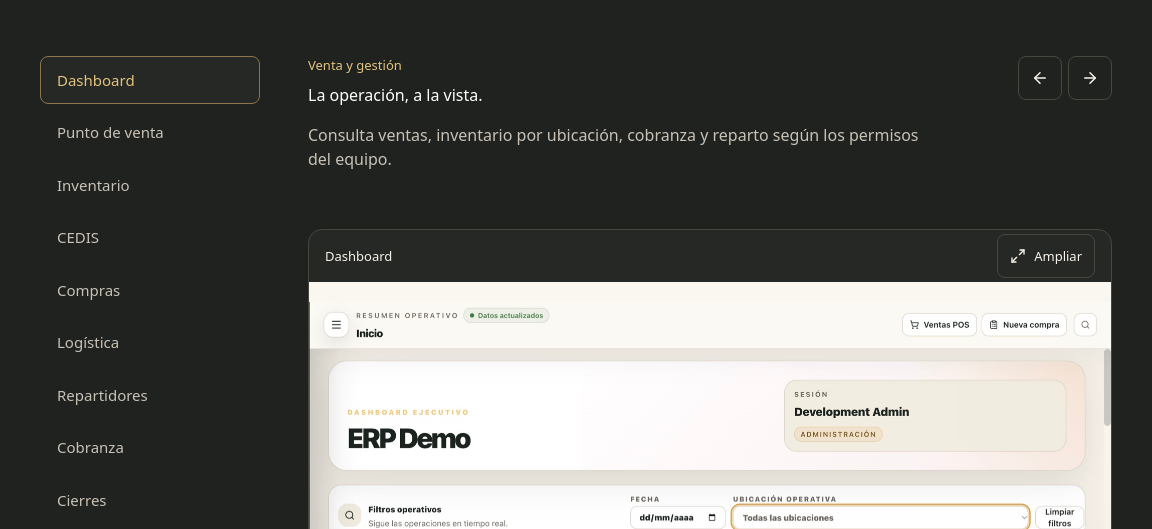
Test: Visible Operations P0 › describes the route planner and billing form without overstating their evidence
What coordinates should you click on to do the following:
click the tab with id "module-tab-fleet"
I would click on:
 (150, 343)
Its box is [40, 318, 260, 367].
(page scrolled)
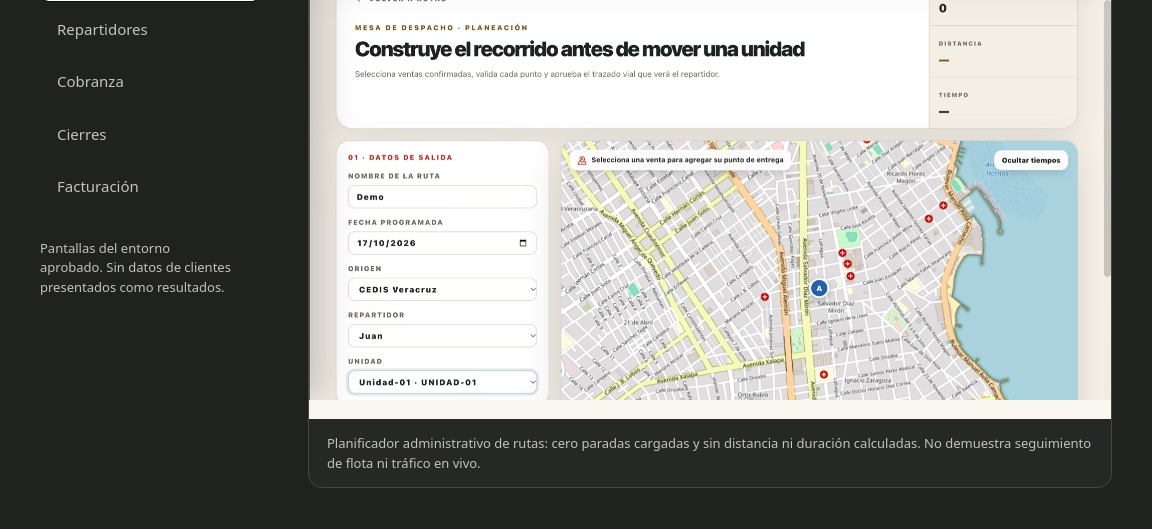
Result: the text "cero paradas cargadas" is shown at [327, 434, 1091, 472]
What coordinates should you click on to do the following:
click the tab with id "module-tab-billing"
I would click on:
 (150, 187)
Its box is [40, 162, 260, 211].
(page scrolled)
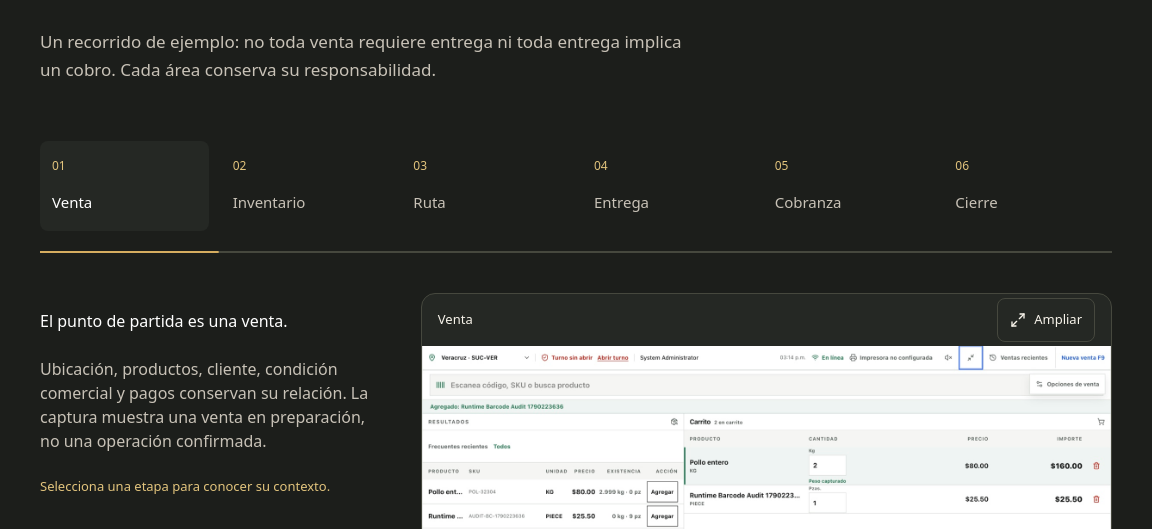
What coordinates should you click on to do the following:
click the button "03 Ruta"
I would click on:
 (486, 186)
Its box is [401, 141, 570, 231].
(page scrolled)
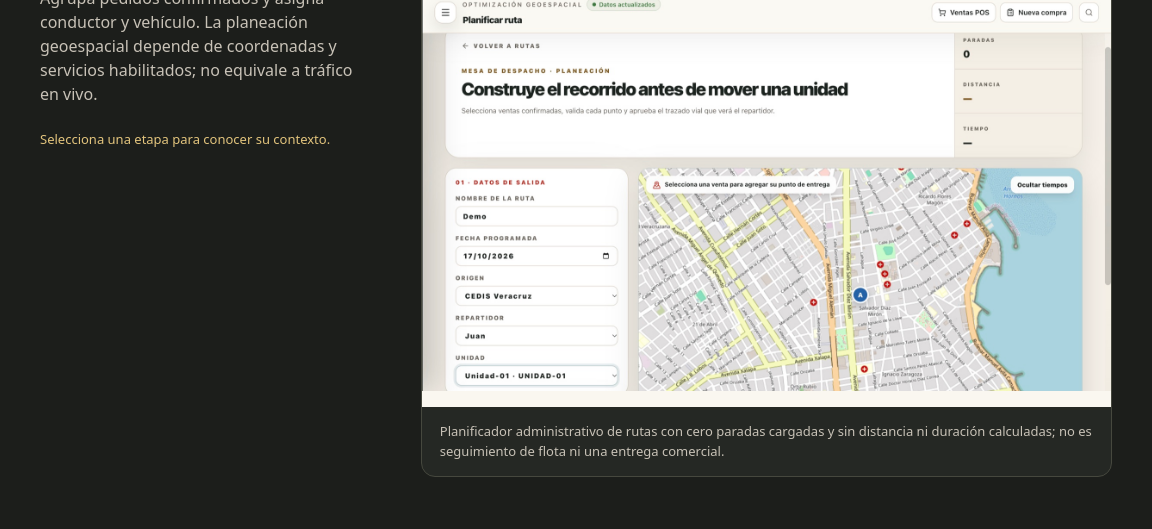
Result: the text "cero paradas cargadas" is shown at [440, 422, 1092, 460]
